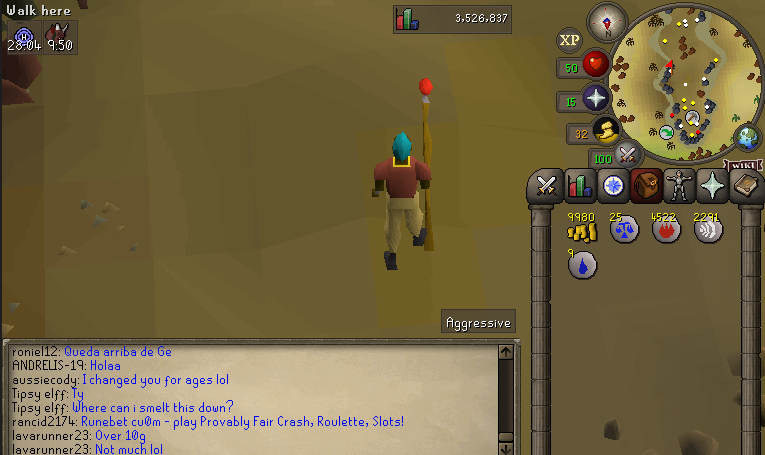iron: (1, 37, 48, 103)
